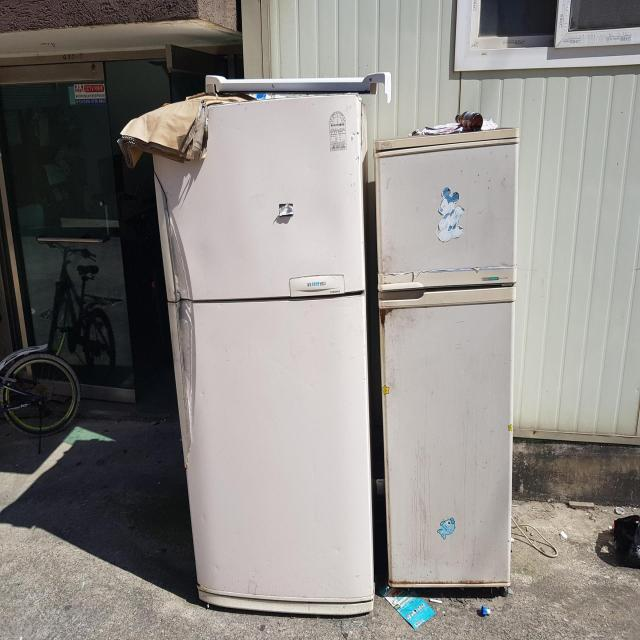refrigerator: (143, 85, 524, 620)
